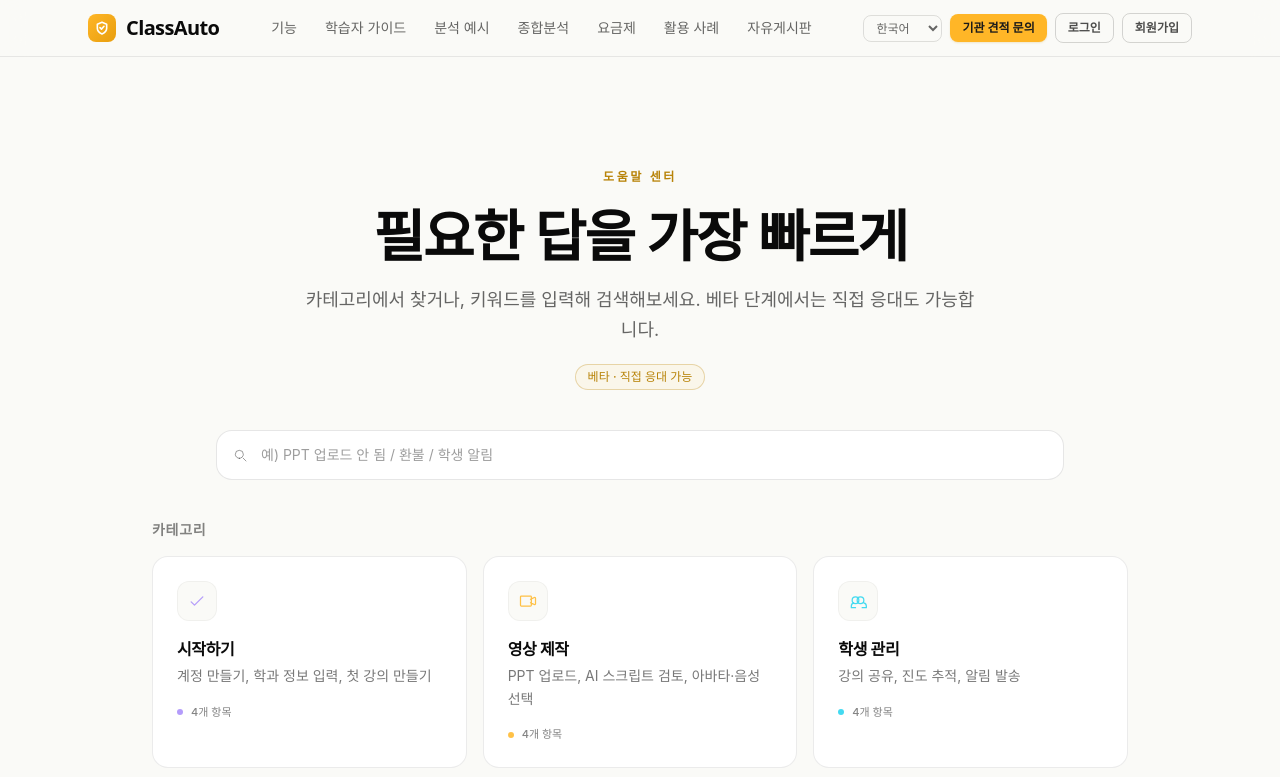
Test: HelpContent › activates search and shows results when typing in the search box
The image size is (1280, 777).
Type "PPT" into the search field named "도움말 검색".
click(640, 455); type("PPT")  # box [216,430,1064,480]
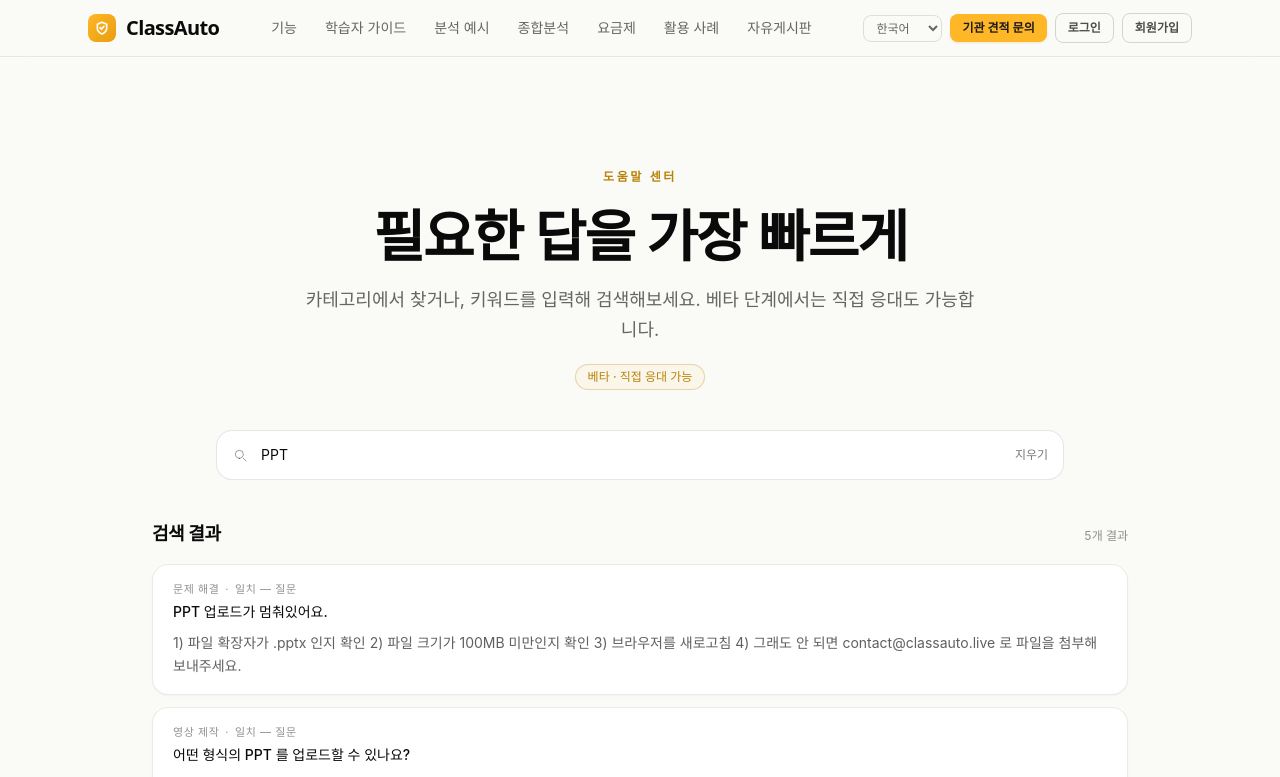
Expected: the list item with test id "help-search-hit-" is shown, [152,564,1128,695]
